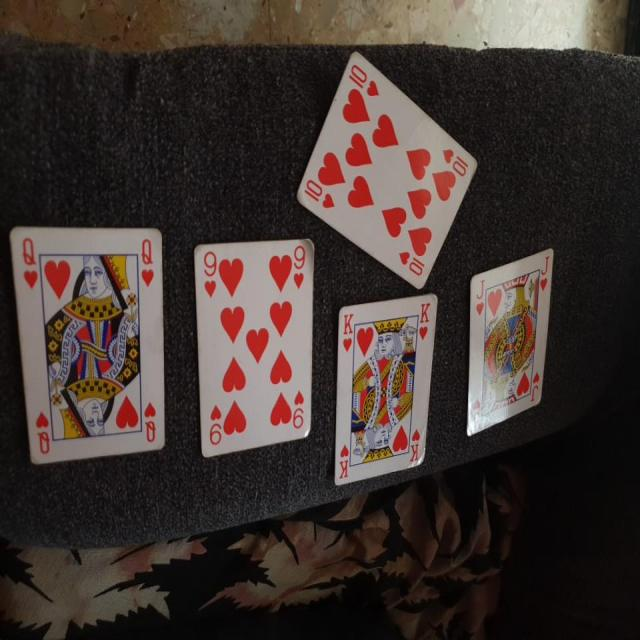10 Hearts: (283, 42, 482, 285)
9 Hearts: (187, 225, 319, 454)
J Hearts: (464, 249, 560, 444)
K Hearts: (337, 286, 440, 478)
Q Hearts: (5, 212, 169, 474)
